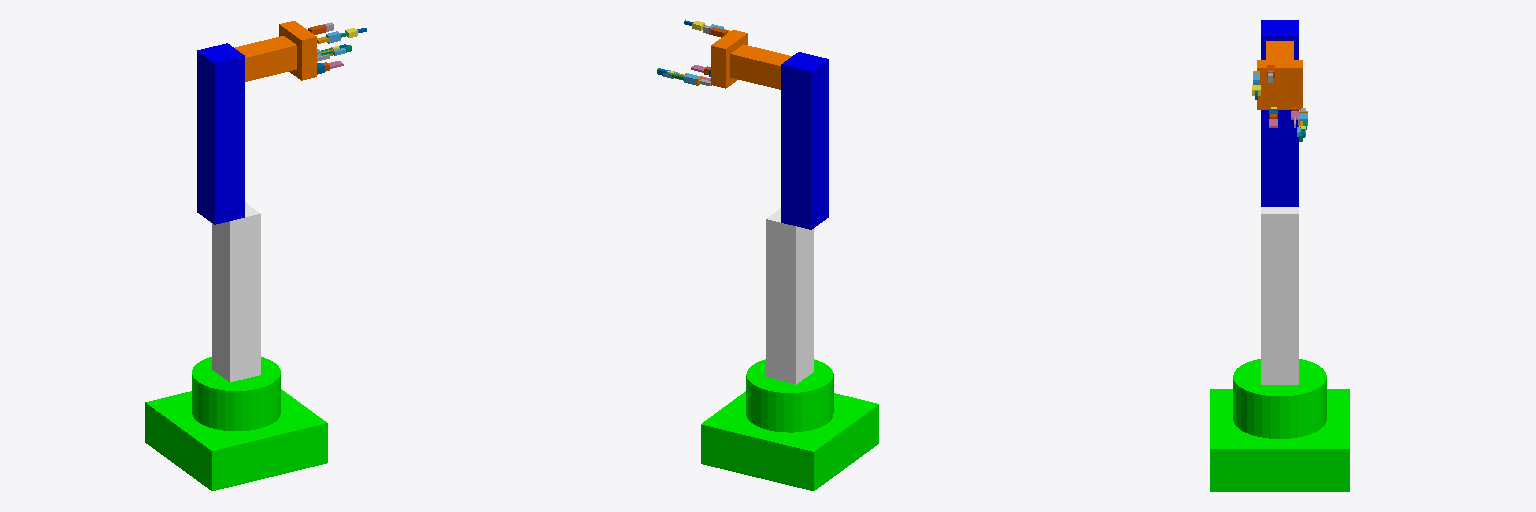
URDF robot description (robot):
<?xml version='1.0' encoding='utf-8'?>
<robot name="robot">
  <link name="base_link">
    <visual>
      <origin xyz="0 0 0.125" rpy="0 0 0" />
      <geometry>
        <box size="0.75 0.75 0.25" />
      </geometry>
      <material name="green" />
    </visual>
    <visual>
      <origin xyz="0 0 0.375" rpy="0 0 0" />
      <geometry>
        <cylinder length="0.25" radius="0.25" />
      </geometry>
      <material name="green">
        <color rgba="0 1 0 1" />
      </material>
    </visual>
    <collision>
      <geometry>
        <box size="0.75 0.75 0.5" />
      </geometry>
    </collision>
    <inertial>
      <mass value="0.5" />
      <inertia ixx="0.034" ixy="0.0" ixz="0.0" iyy="0.034" iyz="0.0" izz="0.034" />
    </inertial>
  </link>
  <link name="support_link">
    <visual>
      <origin xyz="0 0 0.5" rpy="0 0 0" />
      <geometry>
        <box size="0.2 0.2 1" />
      </geometry>
      <material name="white">
        <color rgba="1 1 1 1" />
      </material>
    </visual>
    <collision>
      <geometry>
        <box size="0.2 0.2 1" />
      </geometry>
    </collision>
    <inertial>
      <mass value="0.1" />
      <inertia ixx="0.01" ixy="0.0" ixz="0.0" iyy="0.01" iyz="0.0" izz="0.01" />
    </inertial>
  </link>
  <joint name="support_joint" type="continuous">
    <origin xyz="0 0 0.5" rpy="0 0 0" />
    <parent link="base_link" />
    <child link="support_link" />
    <axis xyz="0 0 1" />
  </joint>
  <link name="arm_link">
    <visual>
      <origin xyz="0 0 0.5" rpy="0 0 0" />
      <geometry>
        <box size="0.2 0.2 1" />
      </geometry>
      <material name="blue">
        <color rgba="0 0 1 1" />
      </material>
    </visual>
    <collision>
      <geometry>
        <box size="0.2 0.2 1" />
      </geometry>
    </collision>
    <inertial>
      <mass value="0.1" />
      <inertia ixx="0.01" ixy="0.0" ixz="0.0" iyy="0.01" iyz="0.0" izz="0.01" />
    </inertial>
  </link>
  <joint name="arm_joint" type="revolute">
    <origin xyz="-0.1 0 1" rpy="0 0 0" />
    <parent link="support_link" />
    <child link="arm_link" />
    <axis xyz="0 1 0" />
    <limit lower="-3.14" upper="3.14" effort="1.0" velocity="1.0" />
  </joint>
  <link name="wrist_link">
    <visual>
      <origin xyz="0 0 0.25" rpy="0 0 0" />
      <geometry>
        <box size="0.15 0.15 0.5" />
      </geometry>
      <material name="orange">
        <color rgba="1 0.5 0 1" />
      </material>
    </visual>
    <collision>
      <geometry>
        <box size="0.15 0.15 0.5" />
      </geometry>
    </collision>
    <inertial>
      <mass value="0.1" />
      <inertia ixx="0.01" ixy="0.0" ixz="0.0" iyy="0.01" iyz="0.0" izz="0.01" />
    </inertial>
  </link>
  <joint name="wrist_joint" type="fixed">
    <origin xyz="0 0 0.9" rpy="0 1.571 0" />
    <parent link="arm_link" />
    <child link="wrist_link" />
  </joint>
  <link name="palm_link">
    <visual>
      <origin xyz="0 0 0.05" rpy="0 0 0" />
      <geometry>
        <box size="0.25 0.25 0.1" />
      </geometry>
      <material name="orange" />
    </visual>
    <collision>
      <geometry>
        <box size="0.25 0.25 0.1" />
      </geometry>
    </collision>
    <inertial>
      <mass value="0.1" />
      <inertia ixx="0.01" ixy="0.0" ixz="0.0" iyy="0.01" iyz="0.0" izz="0.01" />
    </inertial>
  </link>
  <joint name="palm_joint" type="fixed">
    <origin xyz="0 0 0.45" rpy="0 0 0" />
    <parent link="wrist_link" />
    <child link="palm_link" />
  </joint>
  <link name="finger_link_0_0">
    <visual>
      <origin xyz="0 0 0.046" rpy="0 0 0" />
      <geometry>
        <box size="0.013 0.016 0.092" />
      </geometry>
    </visual>
    <collision>
      <geometry>
        <box size="0.013 0.016 0.092" />
      </geometry>
    </collision>
    <inertial>
      <mass value="0.006" />
      <inertia ixx="0.0" iyy="0.0" izz="0.0" ixy="0" ixz="0" iyz="0" />
    </inertial>
  </link>
  <joint name="finger_joint_palm_link_to_finger_link_0_0" type="revolute">
    <origin xyz="0.125 0.114 0.1" rpy="0 0 0" />
    <parent link="palm_link" />
    <child link="finger_link_0_0" />
    <axis xyz="1.0 0.0 0.0" />
    <limit lower="-3.142" upper="3.142" effort="10" velocity="10" />
  </joint>
  <link name="finger_link_0_1">
    <visual>
      <origin xyz="0 0 0.0125" rpy="0 0 0" />
      <geometry>
        <box size="0.03 0.028 0.025" />
      </geometry>
    </visual>
    <collision>
      <geometry>
        <box size="0.03 0.028 0.025" />
      </geometry>
    </collision>
    <inertial>
      <mass value="0.006" />
      <inertia ixx="0.0" iyy="0.0" izz="0.0" ixy="0" ixz="0" iyz="0" />
    </inertial>
  </link>
  <joint name="finger_joint_finger_link_0_0_to_finger_link_0_1" type="revolute">
    <origin xyz="0.0 0.0 0.092" rpy="0 0 0" />
    <parent link="finger_link_0_0" />
    <child link="finger_link_0_1" />
    <axis xyz="0.0 1.0 0.0" />
    <limit lower="-3.142" upper="3.142" effort="10" velocity="10" />
  </joint>
  <link name="finger_link_0_2">
    <visual>
      <origin xyz="0 0 0.0215" rpy="0 0 0" />
      <geometry>
        <box size="0.034 0.035 0.043" />
      </geometry>
    </visual>
    <collision>
      <geometry>
        <box size="0.034 0.035 0.043" />
      </geometry>
    </collision>
    <inertial>
      <mass value="0.015" />
      <inertia ixx="0.0" iyy="0.0" izz="0.0" ixy="0" ixz="0" iyz="0" />
    </inertial>
  </link>
  <joint name="finger_joint_finger_link_0_1_to_finger_link_0_2" type="revolute">
    <origin xyz="0.0 0.0 0.025" rpy="0 0 0" />
    <parent link="finger_link_0_1" />
    <child link="finger_link_0_2" />
    <axis xyz="0.0 1.0 0.0" />
    <limit lower="-3.142" upper="3.142" effort="10" velocity="10" />
  </joint>
  <link name="finger_link_0_3">
    <visual>
      <origin xyz="0 0 0.0405" rpy="0 0 0" />
      <geometry>
        <box size="0.032 0.014 0.081" />
      </geometry>
    </visual>
    <collision>
      <geometry>
        <box size="0.032 0.014 0.081" />
      </geometry>
    </collision>
    <inertial>
      <mass value="0.011" />
      <inertia ixx="0.0" iyy="0.0" izz="0.0" ixy="0" ixz="0" iyz="0" />
    </inertial>
  </link>
  <joint name="finger_joint_finger_link_0_2_to_finger_link_0_3" type="revolute">
    <origin xyz="0.0 0.0 0.043" rpy="0 0 0" />
    <parent link="finger_link_0_2" />
    <child link="finger_link_0_3" />
    <axis xyz="0.0 1.0 0.0" />
    <limit lower="-3.142" upper="3.142" effort="10" velocity="10" />
  </joint>
  <link name="finger_link_0_4">
    <visual>
      <origin xyz="0 0 0.0355" rpy="0 0 0" />
      <geometry>
        <box size="0.024 0.049 0.071" />
      </geometry>
    </visual>
    <collision>
      <geometry>
        <box size="0.024 0.049 0.071" />
      </geometry>
    </collision>
    <inertial>
      <mass value="0.025" />
      <inertia ixx="0.0" iyy="0.0" izz="0.0" ixy="0" ixz="0" iyz="0" />
    </inertial>
  </link>
  <joint name="finger_joint_finger_link_0_3_to_finger_link_0_4" type="revolute">
    <origin xyz="0.0 0.0 0.081" rpy="0 0 0" />
    <parent link="finger_link_0_3" />
    <child link="finger_link_0_4" />
    <axis xyz="1.0 0.0 0.0" />
    <limit lower="-3.142" upper="3.142" effort="10" velocity="10" />
  </joint>
  <link name="finger_link_0_5">
    <visual>
      <origin xyz="0 0 0.024" rpy="0 0 0" />
      <geometry>
        <box size="0.031 0.021 0.048" />
      </geometry>
    </visual>
    <collision>
      <geometry>
        <box size="0.031 0.021 0.048" />
      </geometry>
    </collision>
    <inertial>
      <mass value="0.009" />
      <inertia ixx="0.0" iyy="0.0" izz="0.0" ixy="0" ixz="0" iyz="0" />
    </inertial>
  </link>
  <joint name="finger_joint_finger_link_0_4_to_finger_link_0_5" type="revolute">
    <origin xyz="0.0 0.0 0.071" rpy="0 0 0" />
    <parent link="finger_link_0_4" />
    <child link="finger_link_0_5" />
    <axis xyz="1.0 0.0 0.0" />
    <limit lower="-3.142" upper="3.142" effort="10" velocity="10" />
  </joint>
  <link name="finger_link_1_0">
    <visual>
      <origin xyz="0 0 0.0175" rpy="0 0 0" />
      <geometry>
        <box size="0.044 0.029 0.035" />
      </geometry>
    </visual>
    <collision>
      <geometry>
        <box size="0.044 0.029 0.035" />
      </geometry>
    </collision>
    <inertial>
      <mass value="0.013" />
      <inertia ixx="0.0" iyy="0.0" izz="0.0" ixy="0" ixz="0" iyz="0" />
    </inertial>
  </link>
  <joint name="finger_joint_palm_link_to_finger_link_1_0" type="revolute">
    <origin xyz="0.125 -0.033 0.1" rpy="0 0 0" />
    <parent link="palm_link" />
    <child link="finger_link_1_0" />
    <axis xyz="1.0 1.0 0.0" />
    <limit lower="-3.142" upper="3.142" effort="10" velocity="10" />
  </joint>
  <link name="finger_link_1_1">
    <visual>
      <origin xyz="0 0 0.0265" rpy="0 0 0" />
      <geometry>
        <box size="0.043 0.049 0.053" />
      </geometry>
    </visual>
    <collision>
      <geometry>
        <box size="0.043 0.049 0.053" />
      </geometry>
    </collision>
    <inertial>
      <mass value="0.034" />
      <inertia ixx="0.0" iyy="0.0" izz="0.0" ixy="0" ixz="0" iyz="0" />
    </inertial>
  </link>
  <joint name="finger_joint_finger_link_1_0_to_finger_link_1_1" type="revolute">
    <origin xyz="0.0 0.0 0.035" rpy="0 0 0" />
    <parent link="finger_link_1_0" />
    <child link="finger_link_1_1" />
    <axis xyz="1.0 1.0 0.0" />
    <limit lower="-3.142" upper="3.142" effort="10" velocity="10" />
  </joint>
  <link name="finger_link_1_2">
    <visual>
      <origin xyz="0 0 0.018" rpy="0 0 0" />
      <geometry>
        <box size="0.037 0.036 0.036" />
      </geometry>
    </visual>
    <collision>
      <geometry>
        <box size="0.037 0.036 0.036" />
      </geometry>
    </collision>
    <inertial>
      <mass value="0.014" />
      <inertia ixx="0.0" iyy="0.0" izz="0.0" ixy="0" ixz="0" iyz="0" />
    </inertial>
  </link>
  <joint name="finger_joint_finger_link_1_1_to_finger_link_1_2" type="revolute">
    <origin xyz="0.0 0.0 0.053" rpy="0 0 0" />
    <parent link="finger_link_1_1" />
    <child link="finger_link_1_2" />
    <axis xyz="1.0 1.0 0.0" />
    <limit lower="-3.142" upper="3.142" effort="10" velocity="10" />
  </joint>
  <link name="finger_link_1_3">
    <visual>
      <origin xyz="0 0 0.044" rpy="0 0 0" />
      <geometry>
        <box size="0.013 0.049 0.088" />
      </geometry>
    </visual>
    <collision>
      <geometry>
        <box size="0.013 0.049 0.088" />
      </geometry>
    </collision>
    <inertial>
      <mass value="0.017" />
      <inertia ixx="0.0" iyy="0.0" izz="0.0" ixy="0" ixz="0" iyz="0" />
    </inertial>
  </link>
  <joint name="finger_joint_finger_link_1_2_to_finger_link_1_3" type="revolute">
    <origin xyz="0.0 0.0 0.036" rpy="0 0 0" />
    <parent link="finger_link_1_2" />
    <child link="finger_link_1_3" />
    <axis xyz="0.0 1.0 0.0" />
    <limit lower="-3.142" upper="3.142" effort="10" velocity="10" />
  </joint>
  <link name="finger_link_2_0">
    <visual>
      <origin xyz="0 0 0.036" rpy="0 0 0" />
      <geometry>
        <box size="0.019 0.029 0.072" />
      </geometry>
    </visual>
    <collision>
      <geometry>
        <box size="0.019 0.029 0.072" />
      </geometry>
    </collision>
    <inertial>
      <mass value="0.012" />
      <inertia ixx="0.0" iyy="0.0" izz="0.0" ixy="0" ixz="0" iyz="0" />
    </inertial>
  </link>
  <joint name="finger_joint_palm_link_to_finger_link_2_0" type="revolute">
    <origin xyz="0.118 0.125 0.1" rpy="0 0 0" />
    <parent link="palm_link" />
    <child link="finger_link_2_0" />
    <axis xyz="1.0 1.0 0.0" />
    <limit lower="-3.142" upper="3.142" effort="10" velocity="10" />
  </joint>
  <link name="finger_link_2_1">
    <visual>
      <origin xyz="0 0 0.0065" rpy="0 0 0" />
      <geometry>
        <box size="0.041 0.045 0.013" />
      </geometry>
    </visual>
    <collision>
      <geometry>
        <box size="0.041 0.045 0.013" />
      </geometry>
    </collision>
    <inertial>
      <mass value="0.007" />
      <inertia ixx="0.0" iyy="0.0" izz="0.0" ixy="0" ixz="0" iyz="0" />
    </inertial>
  </link>
  <joint name="finger_joint_finger_link_2_0_to_finger_link_2_1" type="revolute">
    <origin xyz="0.0 0.0 0.072" rpy="0 0 0" />
    <parent link="finger_link_2_0" />
    <child link="finger_link_2_1" />
    <axis xyz="0.0 1.0 0.0" />
    <limit lower="-3.142" upper="3.142" effort="10" velocity="10" />
  </joint>
  <link name="finger_link_2_2">
    <visual>
      <origin xyz="0 0 0.0395" rpy="0 0 0" />
      <geometry>
        <box size="0.04 0.047 0.079" />
      </geometry>
    </visual>
    <collision>
      <geometry>
        <box size="0.04 0.047 0.079" />
      </geometry>
    </collision>
    <inertial>
      <mass value="0.045" />
      <inertia ixx="0.0" iyy="0.0" izz="0.0" ixy="0" ixz="0" iyz="0" />
    </inertial>
  </link>
  <joint name="finger_joint_finger_link_2_1_to_finger_link_2_2" type="revolute">
    <origin xyz="0.0 0.0 0.013" rpy="0 0 0" />
    <parent link="finger_link_2_1" />
    <child link="finger_link_2_2" />
    <axis xyz="1.0 0.0 0.0" />
    <limit lower="-3.142" upper="3.142" effort="10" velocity="10" />
  </joint>
  <link name="finger_link_2_3">
    <visual>
      <origin xyz="0 0 0.0405" rpy="0 0 0" />
      <geometry>
        <box size="0.015 0.038 0.081" />
      </geometry>
    </visual>
    <collision>
      <geometry>
        <box size="0.015 0.038 0.081" />
      </geometry>
    </collision>
    <inertial>
      <mass value="0.014" />
      <inertia ixx="0.0" iyy="0.0" izz="0.0" ixy="0" ixz="0" iyz="0" />
    </inertial>
  </link>
  <joint name="finger_joint_finger_link_2_2_to_finger_link_2_3" type="revolute">
    <origin xyz="0.0 0.0 0.079" rpy="0 0 0" />
    <parent link="finger_link_2_2" />
    <child link="finger_link_2_3" />
    <axis xyz="0.0 1.0 0.0" />
    <limit lower="-3.142" upper="3.142" effort="10" velocity="10" />
  </joint>
  <link name="finger_link_2_4">
    <visual>
      <origin xyz="0 0 0.02" rpy="0 0 0" />
      <geometry>
        <box size="0.03 0.023 0.04" />
      </geometry>
    </visual>
    <collision>
      <geometry>
        <box size="0.03 0.023 0.04" />
      </geometry>
    </collision>
    <inertial>
      <mass value="0.008" />
      <inertia ixx="0.0" iyy="0.0" izz="0.0" ixy="0" ixz="0" iyz="0" />
    </inertial>
  </link>
  <joint name="finger_joint_finger_link_2_3_to_finger_link_2_4" type="revolute">
    <origin xyz="0.0 0.0 0.081" rpy="0 0 0" />
    <parent link="finger_link_2_3" />
    <child link="finger_link_2_4" />
    <axis xyz="0.0 1.0 0.0" />
    <limit lower="-3.142" upper="3.142" effort="10" velocity="10" />
  </joint>
  <link name="finger_link_2_5">
    <visual>
      <origin xyz="0 0 0.026" rpy="0 0 0" />
      <geometry>
        <box size="0.028 0.021 0.052" />
      </geometry>
    </visual>
    <collision>
      <geometry>
        <box size="0.028 0.021 0.052" />
      </geometry>
    </collision>
    <inertial>
      <mass value="0.009" />
      <inertia ixx="0.0" iyy="0.0" izz="0.0" ixy="0" ixz="0" iyz="0" />
    </inertial>
  </link>
  <joint name="finger_joint_finger_link_2_4_to_finger_link_2_5" type="revolute">
    <origin xyz="0.0 0.0 0.04" rpy="0 0 0" />
    <parent link="finger_link_2_4" />
    <child link="finger_link_2_5" />
    <axis xyz="1.0 1.0 0.0" />
    <limit lower="-3.142" upper="3.142" effort="10" velocity="10" />
  </joint>
  <link name="finger_link_3_0">
    <visual>
      <origin xyz="0 0 0.0445" rpy="0 0 0" />
      <geometry>
        <box size="0.034 0.04 0.089" />
      </geometry>
    </visual>
    <collision>
      <geometry>
        <box size="0.034 0.04 0.089" />
      </geometry>
    </collision>
    <inertial>
      <mass value="0.036" />
      <inertia ixx="0.0" iyy="0.0" izz="0.0" ixy="0" ixz="0" iyz="0" />
    </inertial>
  </link>
  <joint name="finger_joint_palm_link_to_finger_link_3_0" type="revolute">
    <origin xyz="-0.125 -0.049 0.1" rpy="0 0 0" />
    <parent link="palm_link" />
    <child link="finger_link_3_0" />
    <axis xyz="0.0 1.0 0.0" />
    <limit lower="-3.142" upper="3.142" effort="10" velocity="10" />
  </joint>
  <link name="finger_link_3_1">
    <visual>
      <origin xyz="0 0 0.007" rpy="0 0 0" />
      <geometry>
        <box size="0.042 0.027 0.014" />
      </geometry>
    </visual>
    <collision>
      <geometry>
        <box size="0.042 0.027 0.014" />
      </geometry>
    </collision>
    <inertial>
      <mass value="0.005" />
      <inertia ixx="0.0" iyy="0.0" izz="0.0" ixy="0" ixz="0" iyz="0" />
    </inertial>
  </link>
  <joint name="finger_joint_finger_link_3_0_to_finger_link_3_1" type="revolute">
    <origin xyz="0.0 0.0 0.089" rpy="0 0 0" />
    <parent link="finger_link_3_0" />
    <child link="finger_link_3_1" />
    <axis xyz="1.0 1.0 0.0" />
    <limit lower="-3.142" upper="3.142" effort="10" velocity="10" />
  </joint>
  <link name="finger_link_3_2">
    <visual>
      <origin xyz="0 0 0.0225" rpy="0 0 0" />
      <geometry>
        <box size="0.037 0.028 0.045" />
      </geometry>
    </visual>
    <collision>
      <geometry>
        <box size="0.037 0.028 0.045" />
      </geometry>
    </collision>
    <inertial>
      <mass value="0.014" />
      <inertia ixx="0.0" iyy="0.0" izz="0.0" ixy="0" ixz="0" iyz="0" />
    </inertial>
  </link>
  <joint name="finger_joint_finger_link_3_1_to_finger_link_3_2" type="revolute">
    <origin xyz="0.0 0.0 0.014" rpy="0 0 0" />
    <parent link="finger_link_3_1" />
    <child link="finger_link_3_2" />
    <axis xyz="1.0 1.0 0.0" />
    <limit lower="-3.142" upper="3.142" effort="10" velocity="10" />
  </joint>
  <link name="finger_link_4_0">
    <visual>
      <origin xyz="0 0 0.0335" rpy="0 0 0" />
      <geometry>
        <box size="0.019 0.035 0.067" />
      </geometry>
    </visual>
    <collision>
      <geometry>
        <box size="0.019 0.035 0.067" />
      </geometry>
    </collision>
    <inertial>
      <mass value="0.013" />
      <inertia ixx="0.0" iyy="0.0" izz="0.0" ixy="0" ixz="0" iyz="0" />
    </inertial>
  </link>
  <joint name="finger_joint_palm_link_to_finger_link_4_0" type="revolute">
    <origin xyz="-0.096 -0.125 0.1" rpy="0 0 0" />
    <parent link="palm_link" />
    <child link="finger_link_4_0" />
    <axis xyz="0.0 1.0 0.0" />
    <limit lower="-3.142" upper="3.142" effort="10" velocity="10" />
  </joint>
  <link name="finger_link_4_1">
    <visual>
      <origin xyz="0 0 0.0385" rpy="0 0 0" />
      <geometry>
        <box size="0.046 0.035 0.077" />
      </geometry>
    </visual>
    <collision>
      <geometry>
        <box size="0.046 0.035 0.077" />
      </geometry>
    </collision>
    <inertial>
      <mass value="0.037" />
      <inertia ixx="0.0" iyy="0.0" izz="0.0" ixy="0" ixz="0" iyz="0" />
    </inertial>
  </link>
  <joint name="finger_joint_finger_link_4_0_to_finger_link_4_1" type="revolute">
    <origin xyz="0.0 0.0 0.067" rpy="0 0 0" />
    <parent link="finger_link_4_0" />
    <child link="finger_link_4_1" />
    <axis xyz="0.0 1.0 0.0" />
    <limit lower="-3.142" upper="3.142" effort="10" velocity="10" />
  </joint>
  <link name="finger_link_4_2">
    <visual>
      <origin xyz="0 0 0.0255" rpy="0 0 0" />
      <geometry>
        <box size="0.016 0.017 0.051" />
      </geometry>
    </visual>
    <collision>
      <geometry>
        <box size="0.016 0.017 0.051" />
      </geometry>
    </collision>
    <inertial>
      <mass value="0.004" />
      <inertia ixx="0.0" iyy="0.0" izz="0.0" ixy="0" ixz="0" iyz="0" />
    </inertial>
  </link>
  <joint name="finger_joint_finger_link_4_1_to_finger_link_4_2" type="revolute">
    <origin xyz="0.0 0.0 0.077" rpy="0 0 0" />
    <parent link="finger_link_4_1" />
    <child link="finger_link_4_2" />
    <axis xyz="0.0 1.0 0.0" />
    <limit lower="-3.142" upper="3.142" effort="10" velocity="10" />
  </joint>
  <link name="finger_link_4_3">
    <visual>
      <origin xyz="0 0 0.0295" rpy="0 0 0" />
      <geometry>
        <box size="0.033 0.048 0.059" />
      </geometry>
    </visual>
    <collision>
      <geometry>
        <box size="0.033 0.048 0.059" />
      </geometry>
    </collision>
    <inertial>
      <mass value="0.028" />
      <inertia ixx="0.0" iyy="0.0" izz="0.0" ixy="0" ixz="0" iyz="0" />
    </inertial>
  </link>
  <joint name="finger_joint_finger_link_4_2_to_finger_link_4_3" type="revolute">
    <origin xyz="0.0 0.0 0.051" rpy="0 0 0" />
    <parent link="finger_link_4_2" />
    <child link="finger_link_4_3" />
    <axis xyz="1.0 1.0 0.0" />
    <limit lower="-3.142" upper="3.142" effort="10" velocity="10" />
  </joint>
  <link name="finger_link_4_4">
    <visual>
      <origin xyz="0 0 0.032" rpy="0 0 0" />
      <geometry>
        <box size="0.018 0.016 0.064" />
      </geometry>
    </visual>
    <collision>
      <geometry>
        <box size="0.018 0.016 0.064" />
      </geometry>
    </collision>
    <inertial>
      <mass value="0.006" />
      <inertia ixx="0.0" iyy="0.0" izz="0.0" ixy="0" ixz="0" iyz="0" />
    </inertial>
  </link>
  <joint name="finger_joint_finger_link_4_3_to_finger_link_4_4" type="revolute">
    <origin xyz="0.0 0.0 0.059" rpy="0 0 0" />
    <parent link="finger_link_4_3" />
    <child link="finger_link_4_4" />
    <axis xyz="1.0 0.0 0.0" />
    <limit lower="-3.142" upper="3.142" effort="10" velocity="10" />
  </joint>
  <link name="finger_link_5_0">
    <visual>
      <origin xyz="0 0 0.012" rpy="0 0 0" />
      <geometry>
        <box size="0.034 0.027 0.024" />
      </geometry>
    </visual>
    <collision>
      <geometry>
        <box size="0.034 0.027 0.024" />
      </geometry>
    </collision>
    <inertial>
      <mass value="0.007" />
      <inertia ixx="0.0" iyy="0.0" izz="0.0" ixy="0" ixz="0" iyz="0" />
    </inertial>
  </link>
  <joint name="finger_joint_palm_link_to_finger_link_5_0" type="revolute">
    <origin xyz="0.125 0.079 0.1" rpy="0 0 0" />
    <parent link="palm_link" />
    <child link="finger_link_5_0" />
    <axis xyz="0.0 1.0 0.0" />
    <limit lower="-3.142" upper="3.142" effort="10" velocity="10" />
  </joint>
  <link name="finger_link_5_1">
    <visual>
      <origin xyz="0 0 0.043" rpy="0 0 0" />
      <geometry>
        <box size="0.014 0.04 0.086" />
      </geometry>
    </visual>
    <collision>
      <geometry>
        <box size="0.014 0.04 0.086" />
      </geometry>
    </collision>
    <inertial>
      <mass value="0.014" />
      <inertia ixx="0.0" iyy="0.0" izz="0.0" ixy="0" ixz="0" iyz="0" />
    </inertial>
  </link>
  <joint name="finger_joint_finger_link_5_0_to_finger_link_5_1" type="revolute">
    <origin xyz="0.0 0.0 0.024" rpy="0 0 0" />
    <parent link="finger_link_5_0" />
    <child link="finger_link_5_1" />
    <axis xyz="1.0 0.0 0.0" />
    <limit lower="-3.142" upper="3.142" effort="10" velocity="10" />
  </joint>
  <link name="finger_link_5_2">
    <visual>
      <origin xyz="0 0 0.044" rpy="0 0 0" />
      <geometry>
        <box size="0.023 0.011 0.088" />
      </geometry>
    </visual>
    <collision>
      <geometry>
        <box size="0.023 0.011 0.088" />
      </geometry>
    </collision>
    <inertial>
      <mass value="0.007" />
      <inertia ixx="0.0" iyy="0.0" izz="0.0" ixy="0" ixz="0" iyz="0" />
    </inertial>
  </link>
  <joint name="finger_joint_finger_link_5_1_to_finger_link_5_2" type="revolute">
    <origin xyz="0.0 0.0 0.086" rpy="0 0 0" />
    <parent link="finger_link_5_1" />
    <child link="finger_link_5_2" />
    <axis xyz="0.0 1.0 0.0" />
    <limit lower="-3.142" upper="3.142" effort="10" velocity="10" />
  </joint>
</robot>

--- What the picture shows (computed from the rendered views, not written in the file) ---
The picture shows the robot from 3 angles, left to right: view 1: azimuth 30°, elevation 25°; view 2: azimuth 150°, elevation 25°; view 3: azimuth 270°, elevation 25°; orthographic projection.
Model robot with 32 links and 31 joints (28 revolute, 1 continuous, 2 fixed), rooted at base_link, posed all joints at 0.
Visible links, largest first — view 1: base_link, arm_link, support_link, wrist_link, palm_link; view 2: base_link, arm_link, support_link, wrist_link, palm_link; view 3: base_link, support_link, arm_link, palm_link, wrist_link.
Boxes of the visible links, x1,y1,x2,y2 form: base_link: (145,357,327,490); arm_link: (197,43,244,224); support_link: (212,202,260,381); wrist_link: (235,36,296,81); palm_link: (279,21,316,80); base_link: (701,359,878,490); arm_link: (781,52,828,229); support_link: (766,208,813,384); wrist_link: (730,44,791,89); palm_link: (711,30,747,88); base_link: (1210,359,1349,491); support_link: (1261,207,1298,384); arm_link: (1261,20,1298,206); palm_link: (1257,60,1302,109); wrist_link: (1266,41,1293,59).
Size in the robot's own frame: 1.19 by 0.75 by 2.55 metres.
Geometry: primitives only (box / cylinder / sphere), no mesh files.